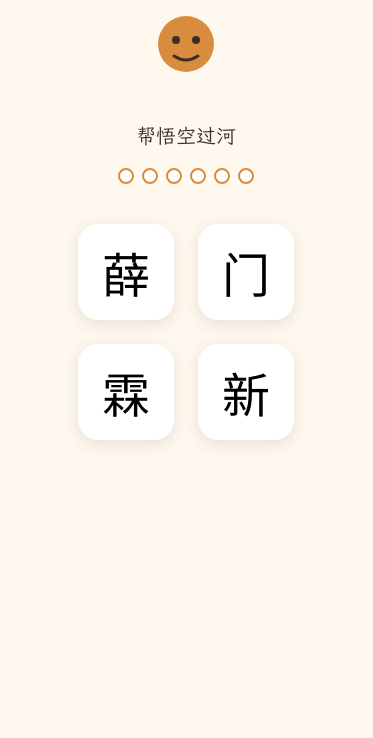
Test: BoutScreen (assessment spec: 'No visible scoring or failure state', 'Narrative framing', 'Bounded session length') › accepts a `characters` prop (add-batch-scoped-activities: focused probing scope) and still completes a full bout with no score ever shown
The image size is (373, 738).
Press the mouse on the button "薛" at (126, 272), box [78, 224, 174, 320]
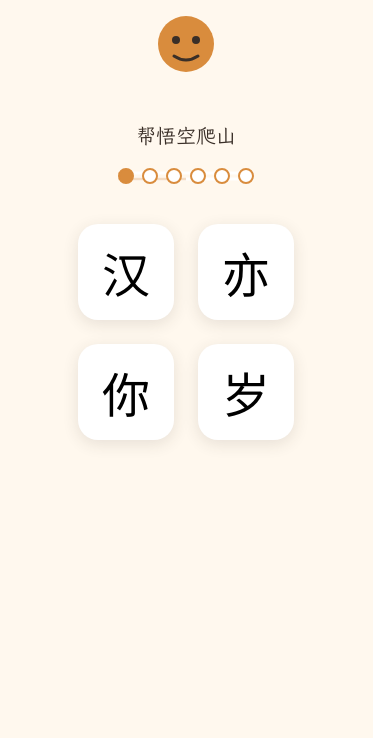
Press the mouse on the button "汉" at (126, 272), box [78, 224, 174, 320]
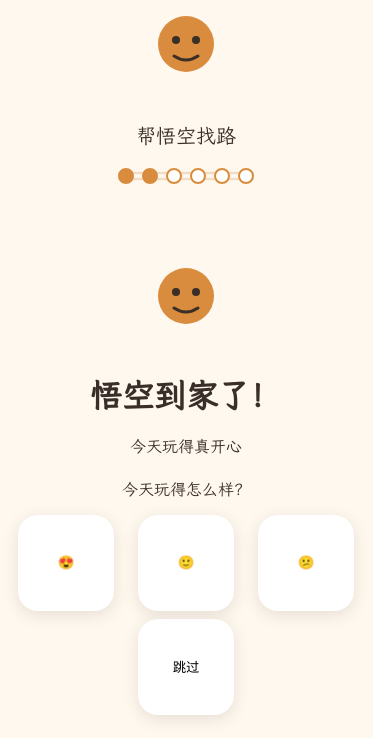
expect the heading "悟空到家了！" is shown: met, box [90, 377, 282, 415]
